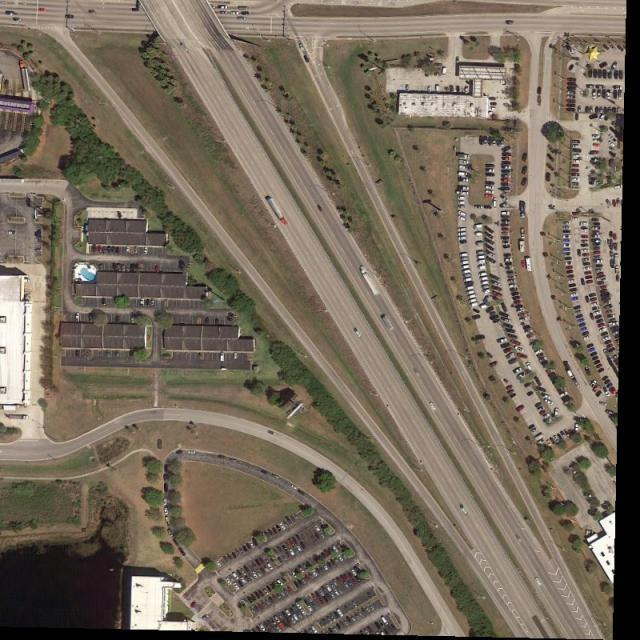vehicle: (358, 265, 381, 297), (267, 197, 289, 226), (19, 61, 32, 92), (381, 314, 395, 330), (9, 414, 29, 421), (486, 255, 497, 265), (178, 546, 187, 557), (511, 339, 523, 347), (526, 258, 532, 273), (381, 616, 390, 626), (459, 505, 469, 514), (609, 134, 618, 144), (515, 346, 526, 354), (491, 279, 502, 287), (490, 274, 501, 282), (521, 201, 526, 218), (233, 582, 242, 591), (181, 44, 190, 53), (514, 535, 523, 544), (534, 577, 543, 586), (546, 163, 555, 172), (610, 62, 619, 71), (603, 113, 612, 122), (354, 328, 362, 338), (486, 250, 496, 258), (562, 394, 570, 404), (559, 391, 569, 399), (515, 405, 525, 413), (526, 362, 534, 372), (178, 260, 186, 270), (500, 194, 510, 202), (485, 243, 495, 251), (484, 231, 494, 239), (485, 226, 495, 234), (614, 254, 620, 267), (501, 302, 508, 313), (534, 434, 545, 441), (543, 399, 554, 406), (226, 577, 234, 586), (266, 585, 274, 594), (300, 577, 308, 586), (332, 545, 340, 554), (288, 538, 296, 547), (242, 545, 250, 554), (590, 380, 598, 389), (506, 351, 515, 359), (486, 306, 495, 314), (503, 346, 512, 354), (534, 377, 542, 386), (300, 609, 308, 618), (275, 624, 283, 633), (326, 615, 334, 624), (337, 609, 345, 618), (546, 154, 555, 162), (458, 210, 467, 218), (233, 571, 240, 581), (240, 567, 247, 577), (167, 528, 174, 538), (318, 530, 325, 540), (493, 291, 503, 298), (603, 387, 610, 397), (290, 615, 297, 625), (499, 311, 510, 317), (462, 269, 473, 275), (246, 595, 254, 603), (229, 575, 237, 583), (270, 583, 278, 591), (337, 543, 345, 551), (298, 566, 306, 574), (278, 546, 286, 554), (202, 614, 210, 622), (294, 514, 302, 522), (290, 515, 298, 523), (314, 525, 322, 533), (606, 382, 614, 390), (282, 620, 290, 628), (295, 602, 303, 610), (368, 603, 376, 611), (330, 614, 338, 622), (354, 566, 362, 574), (609, 150, 617, 158), (608, 140, 616, 148), (245, 575, 252, 584), (293, 546, 300, 555), (259, 557, 266, 566), (323, 563, 330, 572), (275, 591, 282, 600), (283, 587, 290, 596), (290, 484, 299, 491), (303, 54, 310, 63), (246, 542, 253, 551), (493, 285, 502, 292), (567, 370, 574, 379), (560, 430, 567, 439), (430, 402, 437, 411), (490, 361, 499, 368), (501, 342, 510, 349), (509, 358, 518, 365), (517, 372, 526, 379), (537, 386, 546, 393), (604, 305, 613, 312), (279, 622, 286, 631), (323, 595, 330, 604), (307, 595, 314, 604), (311, 626, 318, 635), (326, 593, 333, 602), (337, 586, 344, 595), (336, 577, 343, 586), (547, 144, 554, 153), (500, 202, 509, 209), (521, 178, 528, 187), (608, 146, 617, 153), (599, 62, 608, 69), (589, 114, 598, 121), (503, 323, 513, 329), (585, 366, 591, 376), (480, 303, 490, 309), (518, 353, 528, 359), (541, 393, 551, 399), (241, 577, 248, 585), (248, 573, 255, 581), (278, 556, 285, 564), (237, 580, 244, 588), (236, 570, 243, 578), (277, 578, 284, 586), (244, 566, 251, 574), (256, 570, 263, 578), (260, 567, 267, 575), (263, 565, 270, 573), (290, 549, 297, 557), (267, 562, 274, 570), (274, 582, 281, 590), (304, 574, 311, 582), (308, 572, 315, 580), (319, 566, 326, 574), (330, 558, 337, 566), (338, 554, 345, 562), (295, 568, 302, 576), (173, 538, 180, 546), (298, 489, 306, 496), (282, 544, 290, 551), (299, 44, 306, 52), (299, 512, 306, 520), (292, 537, 299, 545), (300, 542, 307, 550), (314, 533, 321, 541), (283, 521, 290, 529), (287, 518, 294, 526), (261, 601, 268, 609), (595, 390, 602, 398), (548, 371, 556, 378), (534, 349, 542, 356), (526, 332, 534, 339), (258, 603, 265, 611), (414, 369, 421, 377), (538, 439, 546, 446), (530, 427, 538, 434), (486, 352, 494, 359), (543, 413, 551, 420), (514, 367, 522, 374), (606, 343, 614, 350), (581, 326, 589, 333), (583, 334, 591, 341), (367, 626, 374, 634), (375, 622, 382, 630), (314, 591, 322, 598), (307, 606, 315, 613), (346, 615, 353, 623), (285, 609, 292, 617), (274, 615, 281, 623), (254, 606, 261, 614), (318, 589, 325, 597), (321, 586, 328, 594), (330, 582, 337, 590), (365, 606, 372, 614), (319, 622, 326, 630), (322, 619, 329, 627), (348, 580, 355, 588), (340, 574, 347, 582), (606, 199, 613, 207), (568, 64, 575, 72), (599, 114, 606, 122), (5, 78, 10, 89), (607, 322, 618, 327), (434, 66, 439, 77), (488, 135, 493, 146), (38, 7, 47, 13), (280, 589, 286, 598), (329, 547, 335, 556), (264, 554, 270, 563), (216, 560, 222, 569), (250, 541, 256, 550), (502, 317, 511, 323), (509, 334, 518, 340), (530, 342, 539, 348), (470, 302, 479, 308), (468, 294, 477, 300), (479, 272, 488, 278), (479, 276, 488, 282), (490, 314, 499, 320), (597, 276, 606, 282), (599, 328, 608, 334), (578, 322, 587, 328), (576, 314, 585, 320), (326, 584, 332, 593), (573, 148, 582, 154), (522, 153, 528, 162), (485, 238, 494, 244), (502, 146, 511, 152), (219, 11, 229, 16), (506, 329, 516, 334), (467, 290, 477, 295), (482, 289, 492, 294), (601, 293, 611, 298), (602, 297, 612, 302), (215, 318, 220, 328), (442, 67, 447, 77), (521, 229, 526, 239), (474, 224, 484, 229), (258, 590, 265, 597), (254, 591, 261, 598), (251, 594, 258, 601), (286, 551, 293, 558), (315, 567, 322, 574), (324, 550, 331, 557), (190, 602, 197, 609), (223, 556, 230, 563), (227, 554, 234, 561), (238, 547, 245, 554), (264, 531, 271, 538), (525, 382, 532, 389), (538, 406, 545, 413), (602, 331, 609, 338), (609, 386, 616, 393), (574, 381, 581, 388), (379, 621, 386, 628), (319, 598, 326, 605), (292, 605, 299, 612), (270, 618, 277, 625), (256, 626, 263, 633), (259, 624, 266, 631), (354, 613, 361, 620), (330, 592, 337, 599), (355, 575, 362, 582), (618, 45, 625, 52), (603, 44, 610, 51), (238, 6, 250, 10), (265, 598, 271, 606), (106, 351, 112, 359), (112, 264, 118, 272), (262, 589, 270, 595), (252, 571, 258, 579), (256, 559, 262, 567), (272, 594, 278, 602), (287, 585, 293, 593), (294, 581, 300, 589), (312, 570, 318, 578), (334, 557, 340, 565), (342, 552, 348, 560), (274, 549, 280, 557), (164, 507, 170, 515), (273, 474, 281, 480), (235, 550, 241, 558), (253, 538, 259, 546), (268, 529, 274, 537), (272, 526, 278, 534), (276, 525, 282, 533), (269, 596, 275, 604), (539, 357, 547, 363), (526, 329, 534, 335), (564, 429, 570, 437), (558, 434, 564, 442), (554, 435, 560, 443), (550, 437, 556, 445), (506, 385, 514, 391), (473, 308, 481, 314), (602, 376, 610, 382), (603, 336, 611, 342), (598, 322, 606, 328), (567, 274, 575, 280), (582, 330, 590, 336), (586, 343, 594, 349), (588, 347, 596, 353), (590, 351, 598, 357), (592, 356, 600, 362), (608, 358, 614, 366), (594, 310, 602, 316), (590, 302, 598, 308), (458, 160, 470, 164), (458, 154, 470, 158), (426, 66, 430, 78), (304, 598, 310, 606), (298, 612, 304, 620), (294, 614, 300, 622), (350, 616, 358, 622), (345, 605, 351, 613), (366, 592, 374, 598), (344, 582, 350, 590), (344, 573, 350, 581), (458, 216, 466, 222), (614, 184, 622, 190), (117, 263, 122, 272), (130, 316, 135, 325), (475, 232, 484, 237), (600, 401, 609, 406), (606, 410, 615, 415), (512, 296, 521, 301), (555, 409, 560, 418), (476, 335, 485, 340), (472, 314, 481, 319), (469, 298, 478, 303), (466, 286, 475, 291), (577, 249, 582, 258), (436, 85, 441, 94), (427, 86, 432, 95), (484, 205, 493, 210), (522, 166, 527, 175), (461, 261, 470, 266), (590, 150, 599, 155), (588, 69, 593, 78), (567, 95, 576, 100), (567, 99, 576, 104), (158, 439, 162, 450), (575, 423, 579, 434), (458, 166, 469, 170), (494, 198, 498, 209), (322, 552, 328, 559), (303, 563, 309, 570), (292, 571, 298, 578), (317, 205, 323, 212), (286, 542, 292, 549), (296, 535, 302, 542), (311, 535, 317, 542), (232, 552, 238, 559), (280, 523, 286, 530), (593, 386, 599, 393), (551, 376, 558, 382), (542, 361, 549, 367), (494, 318, 501, 324), (527, 391, 534, 397), (535, 402, 542, 408), (540, 410, 547, 416), (604, 379, 611, 385), (609, 348, 616, 354), (606, 340, 613, 346), (390, 624, 397, 630), (387, 626, 394, 632), (336, 622, 342, 629), (340, 620, 346, 627), (343, 619, 349, 626), (311, 593, 318, 599), (312, 603, 318, 610), (282, 611, 288, 618), (290, 607, 296, 614), (278, 614, 284, 621), (267, 620, 274, 626), (334, 611, 340, 618), (334, 589, 340, 596), (352, 570, 358, 577), (610, 45, 617, 51), (610, 127, 616, 134), (102, 298, 107, 306), (76, 313, 80, 323), (130, 263, 134, 273), (27, 198, 31, 208), (282, 554, 287, 562), (298, 578, 303, 586), (164, 483, 168, 493), (206, 6, 216, 10), (297, 545, 302, 553), (523, 325, 531, 330), (517, 309, 525, 314), (514, 300, 522, 305), (511, 292, 519, 297), (478, 259, 486, 264), (544, 418, 552, 423), (482, 281, 490, 286), (500, 338, 508, 343), (603, 301, 611, 306), (617, 198, 622, 206), (206, 318, 211, 326), (610, 240, 614, 250), (570, 288, 578, 293), (570, 293, 578, 298), (613, 366, 618, 374), (589, 293, 597, 298), (581, 278, 586, 286), (586, 275, 594, 280), (584, 270, 592, 275), (584, 266, 592, 271), (582, 249, 590, 254), (563, 234, 571, 239), (563, 238, 571, 243), (459, 178, 469, 182), (457, 85, 461, 95), (458, 172, 468, 176), (462, 265, 470, 270), (461, 253, 469, 258), (460, 240, 468, 245), (592, 134, 600, 139), (590, 177, 598, 182), (567, 78, 577, 82), (497, 138, 502, 146), (538, 96, 542, 106), (502, 153, 512, 157), (141, 298, 145, 307), (122, 264, 126, 273), (93, 244, 97, 253), (220, 6, 229, 10), (241, 12, 250, 16), (166, 517, 170, 526), (188, 450, 197, 454), (221, 353, 225, 362), (476, 242, 485, 246), (508, 275, 517, 279), (546, 440, 552, 446), (504, 378, 510, 384), (465, 282, 474, 286), (592, 239, 601, 243), (569, 284, 578, 288), (592, 306, 601, 310), (582, 254, 591, 258), (581, 222, 590, 226), (562, 226, 571, 230), (563, 230, 572, 234), (463, 274, 472, 278), (465, 86, 469, 95), (506, 21, 515, 25), (263, 622, 269, 628), (461, 186, 470, 190), (572, 140, 581, 144), (546, 173, 550, 182), (501, 178, 510, 182), (502, 166, 511, 170), (568, 82, 577, 86), (614, 70, 618, 79), (608, 70, 612, 79), (603, 69, 607, 78), (598, 69, 602, 78), (594, 69, 598, 78), (484, 136, 488, 145), (485, 190, 494, 194), (486, 169, 495, 173), (568, 86, 577, 90), (613, 86, 622, 90), (614, 90, 618, 99), (602, 89, 606, 98), (567, 108, 576, 112), (327, 561, 332, 568), (267, 430, 274, 435), (230, 458, 237, 463), (219, 455, 226, 460), (503, 240, 510, 245), (598, 369, 605, 374), (537, 353, 544, 358), (515, 305, 522, 310), (510, 393, 517, 398), (528, 425, 535, 430), (507, 390, 514, 395), (606, 310, 613, 315), (597, 319, 604, 324), (572, 297, 579, 302), (575, 310, 582, 315), (578, 318, 585, 323), (590, 313, 595, 320), (565, 362, 570, 369), (596, 363, 603, 368), (585, 296, 590, 303), (353, 601, 358, 608), (116, 350, 120, 358), (75, 350, 79, 358), (156, 266, 160, 274), (131, 8, 139, 12), (66, 15, 74, 19), (6, 11, 14, 15), (14, 18, 22, 22), (98, 245, 102, 253), (103, 246, 107, 254), (126, 246, 130, 254), (134, 246, 138, 254), (238, 18, 246, 22), (165, 464, 169, 472), (406, 84, 410, 92), (9, 231, 17, 235), (504, 258, 512, 262), (502, 237, 510, 241), (502, 232, 510, 236), (502, 228, 510, 232), (502, 219, 510, 223), (508, 280, 516, 284), (510, 288, 518, 292), (509, 284, 517, 288), (477, 250, 485, 254), (478, 266, 486, 270), (596, 265, 604, 269), (593, 234, 601, 238), (593, 231, 601, 235), (593, 226, 601, 230), (613, 199, 617, 207), (615, 266, 619, 274), (610, 250, 614, 258), (614, 233, 618, 241), (614, 243, 618, 251), (606, 314, 614, 318), (594, 315, 602, 319), (566, 266, 574, 270), (566, 270, 574, 274), (568, 279, 576, 283), (574, 306, 582, 310), (565, 257, 573, 261), (564, 252, 572, 256), (590, 298, 598, 302), (586, 280, 594, 284), (583, 262, 591, 266), (582, 258, 590, 262), (582, 240, 590, 244), (572, 218, 580, 222), (490, 102, 498, 106), (450, 86, 454, 94), (435, 62, 443, 66), (476, 206, 484, 210), (458, 227, 466, 231), (458, 196, 466, 200), (502, 174, 510, 178), (502, 170, 510, 174), (606, 176, 614, 180), (462, 257, 470, 261), (459, 236, 467, 240), (610, 159, 614, 167), (572, 178, 580, 182), (572, 168, 580, 172), (572, 164, 580, 168), (502, 162, 510, 166), (502, 157, 510, 161), (493, 138, 497, 146), (486, 186, 494, 190), (568, 91, 576, 95), (607, 90, 611, 98), (597, 85, 605, 89), (598, 90, 602, 98), (593, 90, 597, 98), (587, 85, 595, 89), (590, 106, 594, 114), (586, 106, 590, 114), (578, 106, 582, 114), (490, 311, 496, 316), (598, 272, 604, 277), (594, 246, 600, 251), (333, 580, 338, 586), (100, 264, 104, 271), (117, 317, 121, 324), (130, 350, 134, 357), (126, 266, 130, 273), (23, 279, 30, 283), (89, 10, 96, 14), (107, 246, 111, 253), (176, 450, 183, 454), (234, 353, 238, 360), (507, 270, 514, 274), (520, 318, 527, 322), (601, 290, 608, 294), (598, 282, 605, 286), (594, 251, 601, 255), (594, 242, 601, 246), (594, 222, 601, 226), (573, 212, 580, 216), (592, 218, 599, 222), (610, 231, 614, 238), (566, 262, 573, 266), (594, 361, 601, 365), (564, 244, 571, 248), (582, 234, 589, 238), (582, 226, 589, 230), (465, 278, 472, 282), (574, 154, 581, 158), (574, 160, 581, 164), (593, 138, 600, 142), (589, 182, 596, 186), (572, 183, 579, 187), (538, 87, 542, 94), (604, 107, 608, 114), (595, 107, 599, 114), (90, 314, 93, 323), (501, 224, 510, 227), (501, 215, 510, 218), (501, 212, 510, 215), (594, 260, 603, 263), (611, 259, 614, 268), (456, 56, 459, 65), (501, 187, 510, 190), (458, 233, 467, 236), (571, 174, 580, 177), (620, 70, 623, 79), (480, 136, 483, 145), (486, 173, 495, 176), (619, 90, 622, 99), (567, 104, 576, 107), (147, 299, 150, 307), (231, 12, 239, 15), (262, 470, 268, 474), (164, 498, 167, 506), (164, 474, 167, 482), (506, 262, 512, 266), (478, 255, 486, 258), (482, 286, 490, 289), (594, 256, 602, 259), (617, 274, 620, 282), (581, 244, 589, 247), (489, 98, 497, 101), (522, 261, 526, 267), (462, 192, 470, 195), (486, 195, 494, 198), (502, 183, 510, 186), (486, 182, 494, 185), (609, 108, 613, 114), (600, 106, 603, 114), (151, 299, 154, 306), (112, 246, 115, 253), (116, 247, 119, 254), (503, 245, 510, 248), (506, 267, 513, 270), (600, 286, 607, 289), (564, 248, 571, 251), (334, 625, 337, 632), (458, 202, 465, 205), (573, 145, 580, 148), (593, 144, 600, 147), (576, 114, 579, 121), (145, 248, 148, 254), (504, 254, 510, 257), (597, 269, 603, 272), (486, 165, 495, 167), (613, 108, 616, 114), (502, 138, 504, 146), (36, 250, 43, 252)
